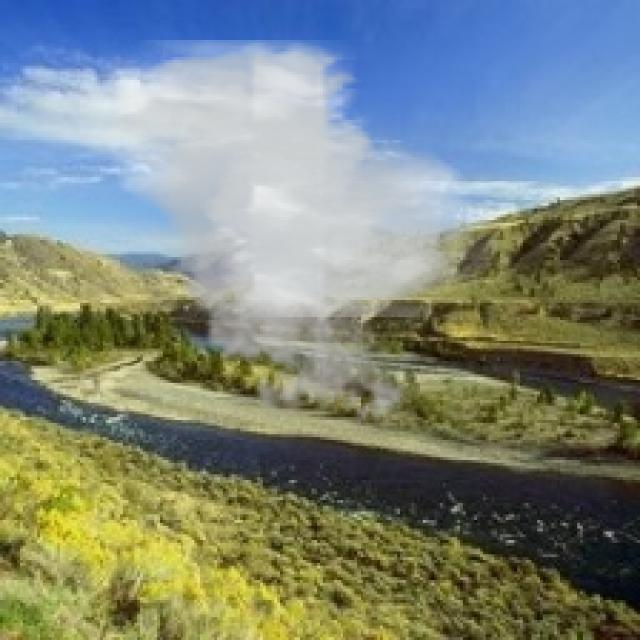Smoke: (80, 39, 497, 434)
